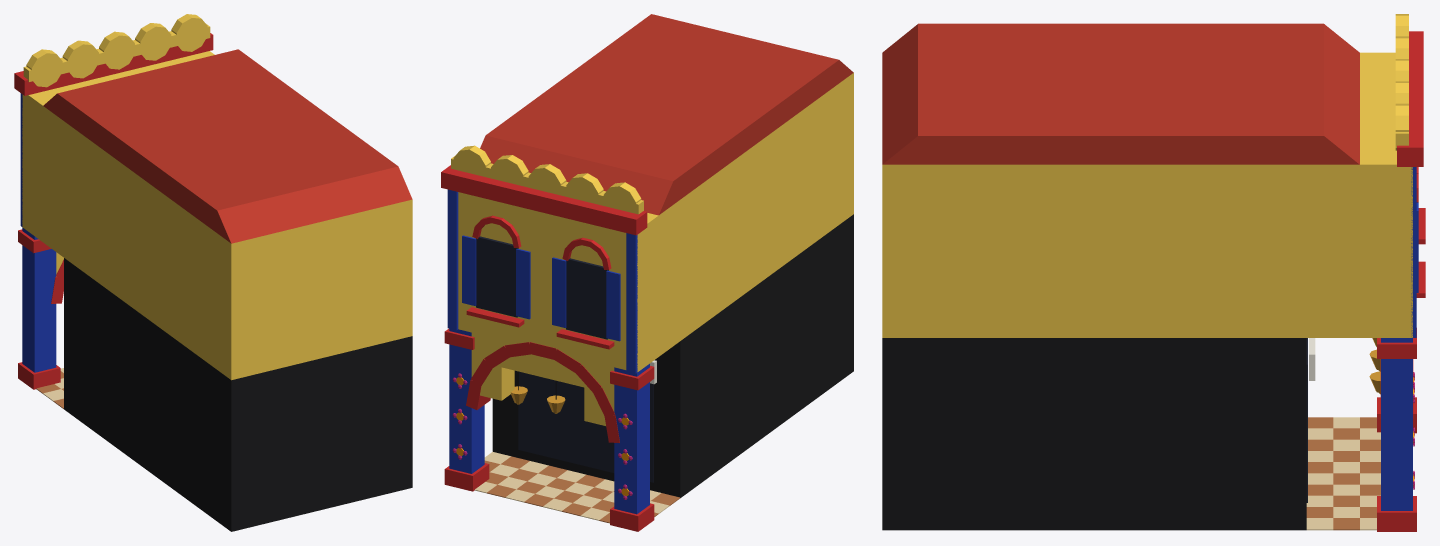
Rendered from env_bf_shopfront_yellow.fbx.
3 renders of one model, left to right at view 1: azimuth 30°, elevation 25°; view 2: azimuth 150°, elevation 25°; view 3: azimuth 270°, elevation 25°, orthographic. The views are drawn at different scales.
Parts seen in each view (by area): view 1: env_bf_shopfront_yellow_geo_LOD0, COL_env_bf_shopfront_yellow; view 2: env_bf_shopfront_yellow_geo_LOD0, COL_env_bf_shopfront_yellow; view 3: env_bf_shopfront_yellow_geo_LOD0, COL_env_bf_shopfront_yellow.
Boxes of the visible parts, x1,y1,x2,y2 form: env_bf_shopfront_yellow_geo_LOD0: [14, 14, 412, 408]; COL_env_bf_shopfront_yellow: [64, 258, 412, 531]; env_bf_shopfront_yellow_geo_LOD0: [441, 14, 853, 531]; COL_env_bf_shopfront_yellow: [492, 214, 853, 497]; env_bf_shopfront_yellow_geo_LOD0: [882, 14, 1425, 531]; COL_env_bf_shopfront_yellow: [882, 338, 1306, 530].
Size of what is drawn, in the model's own units: 5.2 by 8.6 by 10.24.
